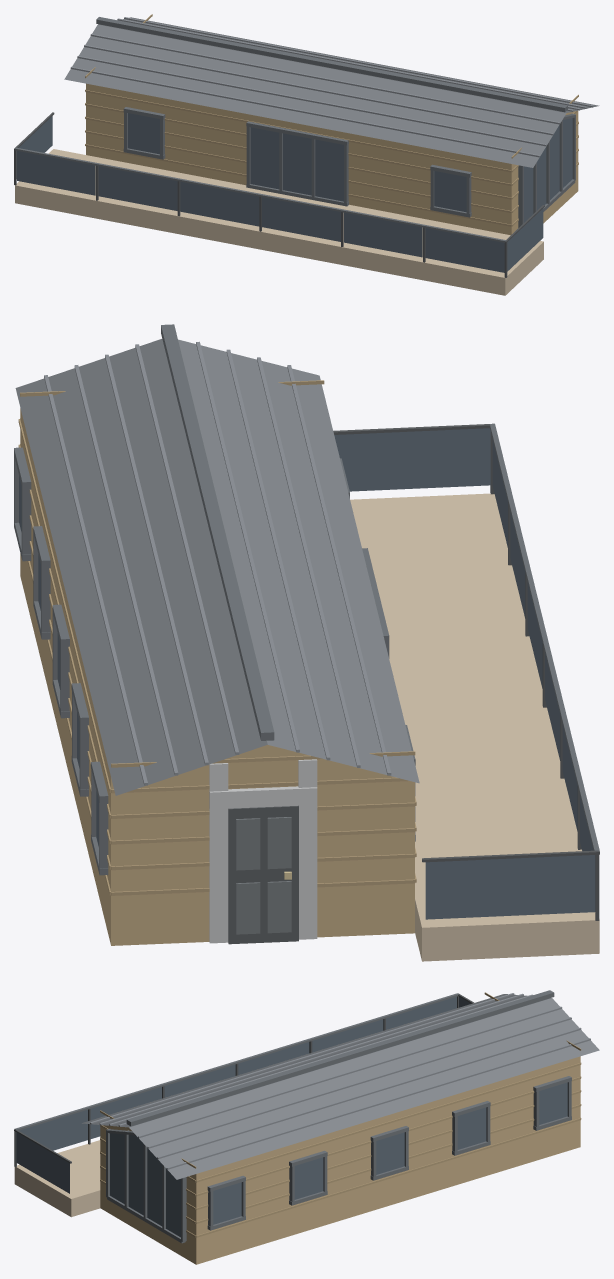
The picture shows the model from 3 angles, top to bottom: view 1: azimuth 30°, elevation 25°; view 2: azimuth 150°, elevation 25°; view 3: azimuth 270°, elevation 25°; orthographic projection. The views are drawn at different scales.
Parts seen in each view (by area): view 1: slate, door_wood, larch, slate_dk, slate_lt, door_wood_p, window_glass_006, window_glass_002, window_glass_003, window_glass_004, window_glass_001, window_glass_005 (+9 smaller); view 2: slate, larch, door_wood, slate_dk, slate_lt, window_glass_007, window_glass_008, stone_band, door_wood_p, door_dark_p, door_dark, pipe; view 3: slate, door_wood, slate_dk, slate_lt, door_wood_p, window_glass_014, larch, window_glass_008, window_glass_006, window_glass_018, window_glass_016, window_glass_005 (+8 smaller).
Boxes of the visible parts, bbox=[...] form: slate: bbox=[64, 17, 599, 167]; door_wood: bbox=[86, 83, 578, 235]; larch: bbox=[15, 149, 543, 295]; slate_dk: bbox=[15, 17, 575, 242]; slate_lt: bbox=[70, 17, 593, 157]; door_wood_p: bbox=[85, 14, 578, 226]; window_glass_006: bbox=[425, 228, 504, 272]; window_glass_002: bbox=[98, 166, 177, 210]; window_glass_003: bbox=[180, 181, 259, 226]; window_glass_004: bbox=[262, 197, 340, 241]; window_glass_001: bbox=[17, 151, 95, 195]; window_glass_005: bbox=[344, 212, 422, 257]; slate: bbox=[15, 339, 419, 795]; larch: bbox=[350, 493, 599, 961]; door_wood: bbox=[20, 408, 414, 945]; slate_dk: bbox=[14, 324, 599, 875]; slate_lt: bbox=[44, 341, 391, 785]; window_glass_007: bbox=[425, 855, 595, 919]; window_glass_008: bbox=[334, 428, 490, 491]; stone_band: bbox=[209, 759, 317, 943]; door_wood_p: bbox=[18, 380, 416, 895]; door_dark_p: bbox=[236, 817, 291, 934]; door_dark: bbox=[228, 805, 298, 944]; pipe: bbox=[333, 423, 599, 920]; slate: bbox=[82, 994, 599, 1179]; door_wood: bbox=[100, 1056, 580, 1264]; slate_dk: bbox=[15, 990, 571, 1243]; slate_lt: bbox=[90, 993, 590, 1169]; door_wood_p: bbox=[100, 992, 581, 1237]; window_glass_014: bbox=[110, 1133, 180, 1237]; larch: bbox=[14, 1140, 100, 1217]; window_glass_008: bbox=[16, 1132, 69, 1193]; window_glass_006: bbox=[19, 1109, 87, 1150]; window_glass_018: bbox=[457, 1107, 486, 1149]; window_glass_016: bbox=[294, 1157, 323, 1199]; window_glass_005: bbox=[90, 1087, 161, 1138].
Size of the model in its own units: 13.12 by 3.35 by 14.61.
